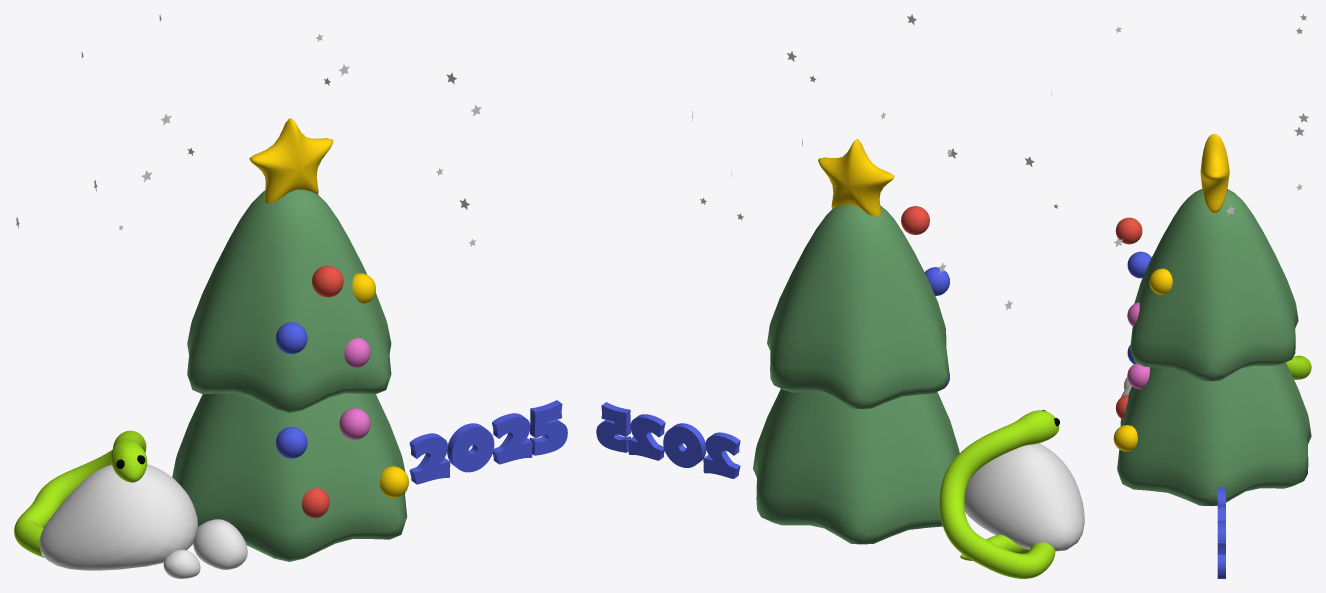
The picture shows the model from 3 angles, left to right: view 1: azimuth 30°, elevation 25°; view 2: azimuth 150°, elevation 25°; view 3: azimuth 270°, elevation 25°; orthographic projection. The views are drawn at different scales.
Parts seen in each view (by area): view 1: Cylinder.001, Cylinder.002, Sphere.018, Text, Zmeya, Zvezda, Sphere.006, Sphere, Sphere.001, Sphere.010, Sphere.002; view 2: Cylinder.001, Cylinder.002, Sphere.018, Zmeya, Text, Zvezda, Sphere.006; view 3: Cylinder.001, Cylinder.002, Zvezda, Text, Sphere.006, Sphere.002, Sphere.005, Sphere.001, Zmeya, Sphere.010, Snezinki.
Boxes of the visible parts, x1,y1,x2,y2 form: Cylinder.001: (187,189,391,413); Cylinder.002: (172,393,407,561); Sphere.018: (39,464,247,578); Text: (409,400,567,484); Zmeya: (14,430,147,557); Zvezda: (249,118,333,203); Sphere.006: (312,265,343,297); Sphere: (276,427,307,458); Sphere.001: (276,322,307,353); Sphere.010: (339,408,370,439); Sphere.002: (380,466,408,497); Cylinder.001: (767,204,949,408); Cylinder.002: (753,389,959,544); Sphere.018: (964,443,1084,551); Zmeya: (939,410,1059,578); Text: (596,402,740,478); Zvezda: (818,139,894,216); Sphere.006: (901,206,929,234); Cylinder.001: (1130,189,1298,381); Cylinder.002: (1117,362,1311,505); Zvezda: (1200,133,1229,212); Text: (1217,487,1225,578); Sphere.006: (1115,217,1142,244); Sphere.002: (1113,425,1137,451); Sphere.005: (1149,268,1172,294); Sphere.001: (1127,251,1151,278); Zmeya: (1286,355,1311,379); Sphere.010: (1127,363,1149,389); Snezinki: (1113,14,1308,246).
Size of the model in its own units: 1.9 by 1.72 by 0.741.
